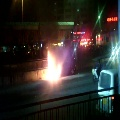fire: (41, 50, 61, 81)
